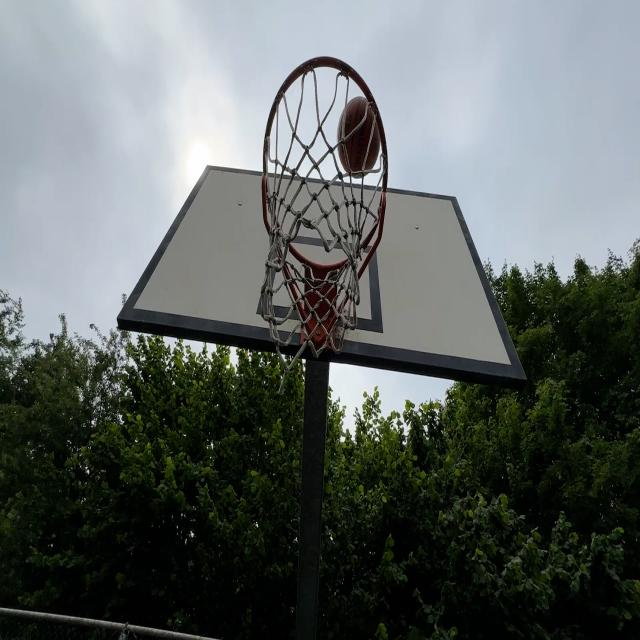Basketball: (337, 99, 381, 174)
